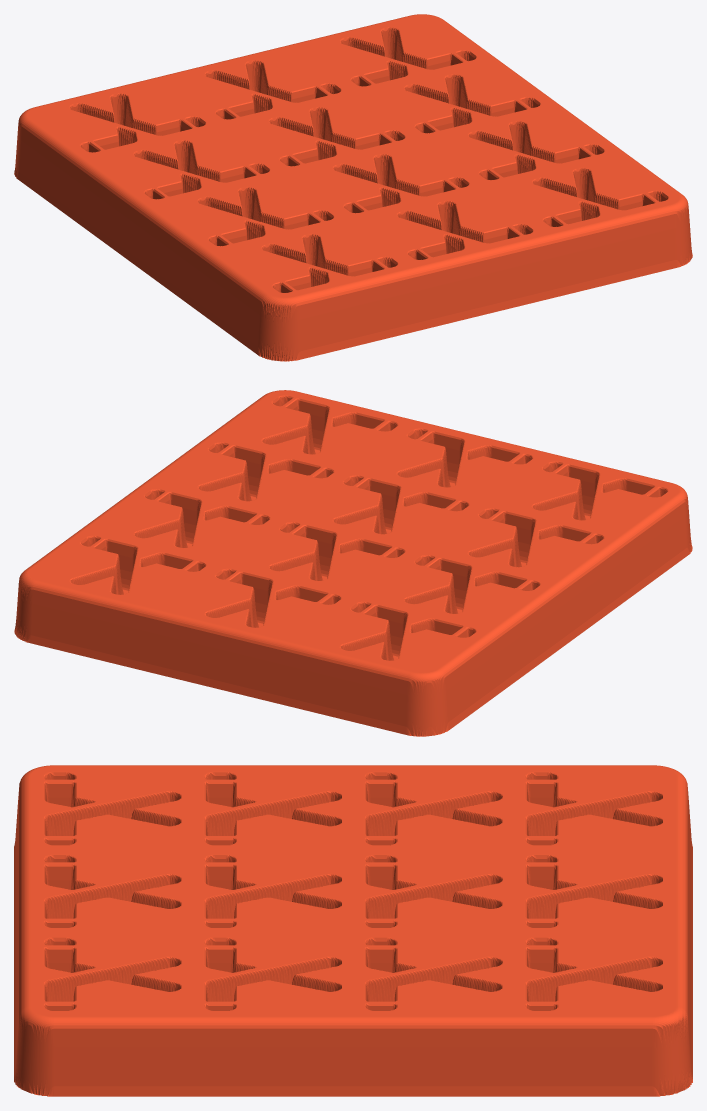
Rendered from mold.glb.
3 views of the same model, one above another, from view 1: azimuth 30°, elevation 25°; view 2: azimuth 150°, elevation 25°; view 3: azimuth 270°, elevation 25° (orthographic). The views are drawn at different scales.
Parts seen in each view (by area): view 1: geometry_0; view 2: geometry_0; view 3: geometry_0.
Part boxes in pixels (x1,y1,x2,y2): geometry_0: (14,14,692,361); geometry_0: (14,390,692,736); geometry_0: (14,765,692,1096).
Size of the model in its own units: 0.141 by 0.0182 by 0.1532.
